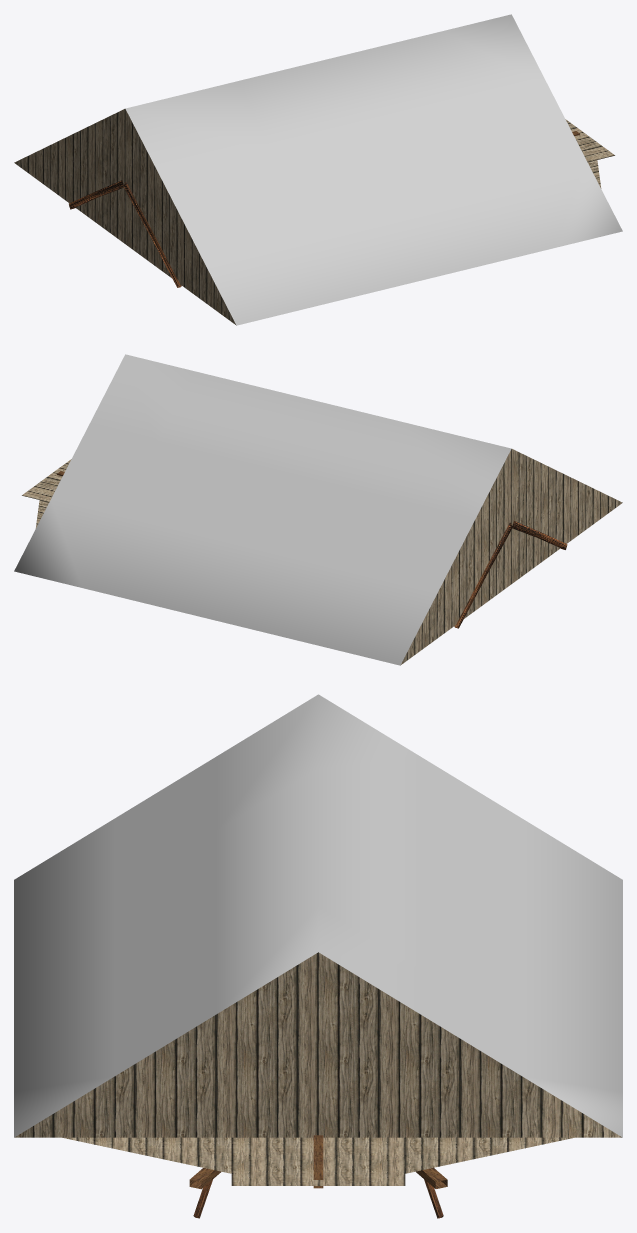
Rendered from LAKETOWN_WAREHOUSE2_PS_WH2_ROOF_PARTS746__GX.obj.
3 views of the same model, one above another, from view 1: azimuth 30°, elevation 25°; view 2: azimuth 150°, elevation 25°; view 3: azimuth 270°, elevation 25° (orthographic). The views are drawn at different scales.
Visible parts, largest first — view 1: of_Parts746__GX; view 2: of_Parts746__GX; view 3: of_Parts746__GX.
Boxes of the visible parts, bbox=[...] form: of_Parts746__GX: bbox=[14, 14, 622, 325]; of_Parts746__GX: bbox=[14, 354, 622, 665]; of_Parts746__GX: bbox=[14, 694, 622, 1218].
Bounding box in the file's own units: 2677 × 975 × 2247.
